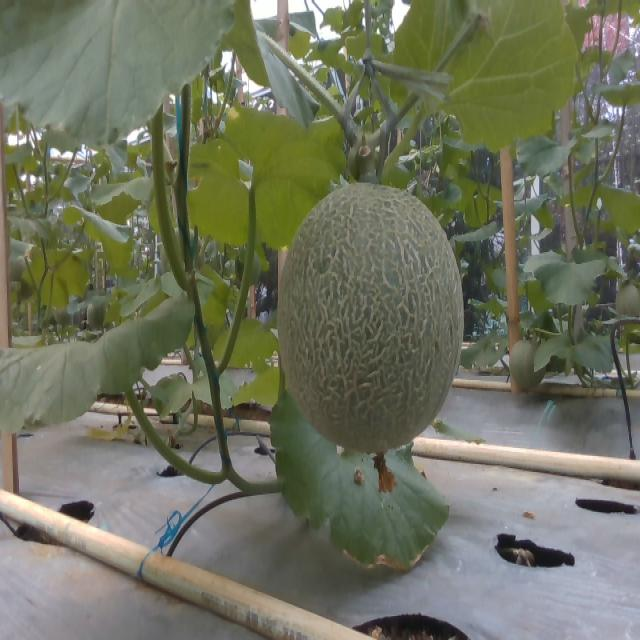melon: (280, 183, 465, 453)
